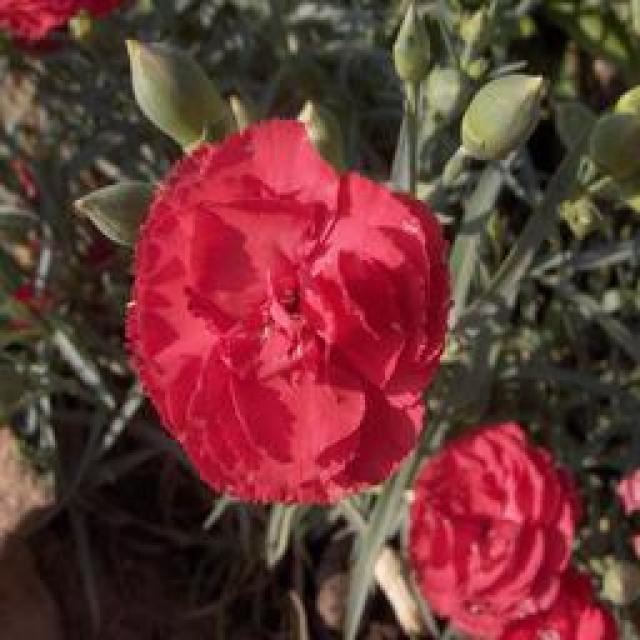carnation: (112, 114, 456, 516)
